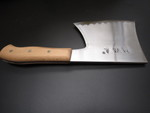knief: (4, 16, 149, 68)
